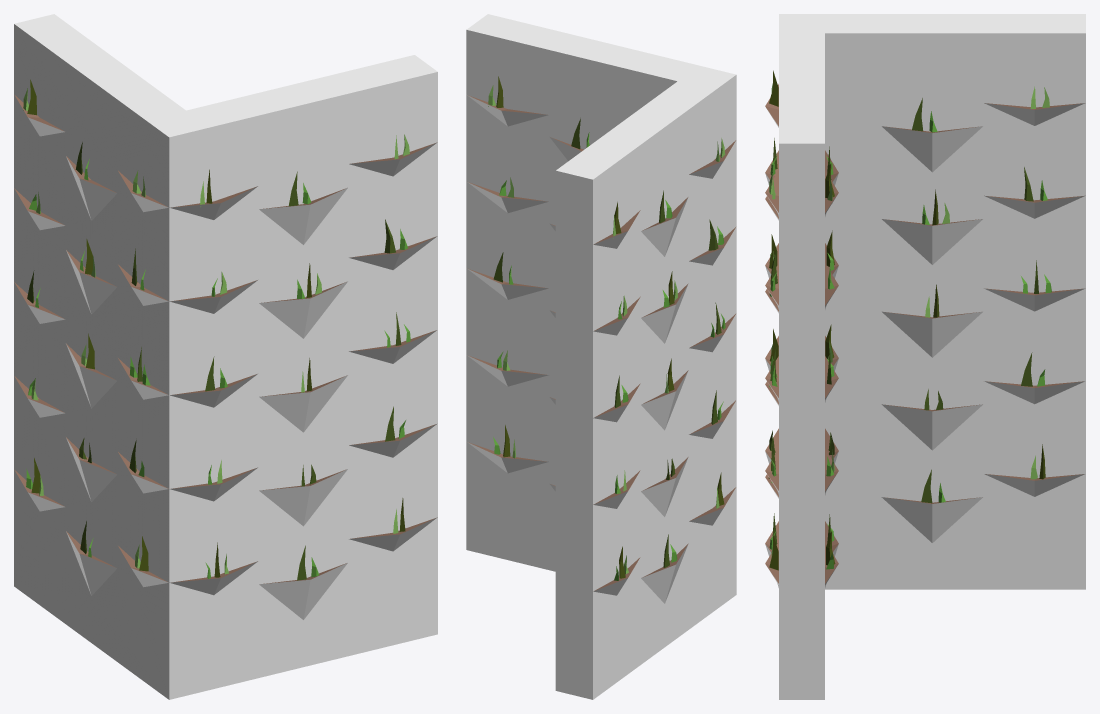
The model's file is PlantCorner.glb.
3 renders of one model, left to right at view 1: azimuth 30°, elevation 25°; view 2: azimuth 150°, elevation 25°; view 3: azimuth 270°, elevation 25°, orthographic. The views are drawn at different scales.
Visible parts, largest first — view 1: wall_garden_corner; view 2: wall_garden_corner; view 3: wall_garden_corner.
Boxes of the visible parts, box(x1,y1,x2,y2) form: wall_garden_corner: box(14, 14, 437, 699); wall_garden_corner: box(466, 14, 736, 699); wall_garden_corner: box(765, 14, 1085, 699).
Size of what is drawn, in the model's own units: 2.09 by 4 by 2.09.
Materials: 1 (1 with a texture image).
